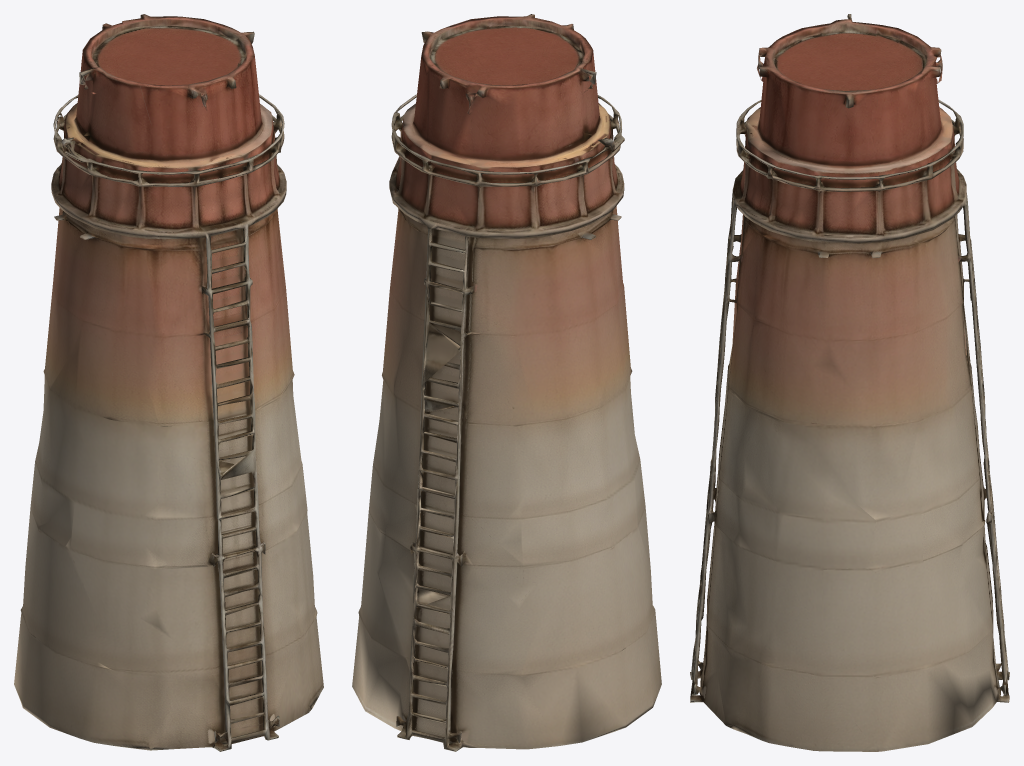
The model's file is smokestack.glb.
3 views of the same model, side by side, from view 1: azimuth 30°, elevation 25°; view 2: azimuth 150°, elevation 25°; view 3: azimuth 270°, elevation 25° (orthographic).
Bounding box in the file's own units: 0.8182 × 1.88 × 0.8582.
1 material, 1 textured.
